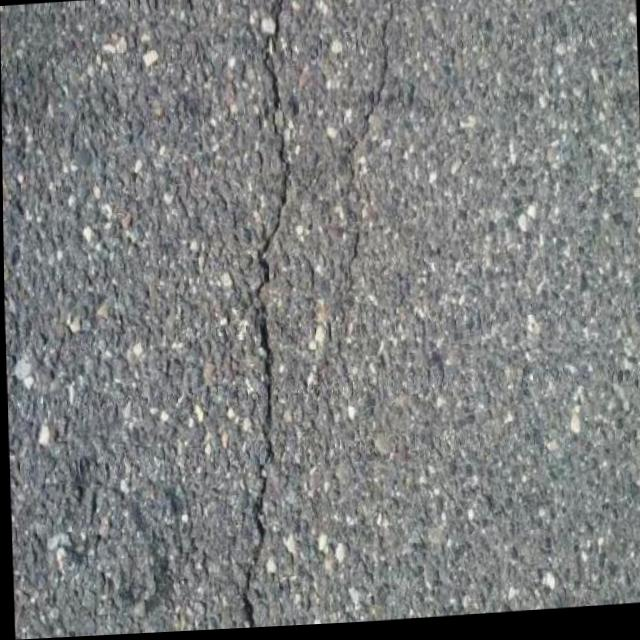Crack: (218, 0, 314, 631)
